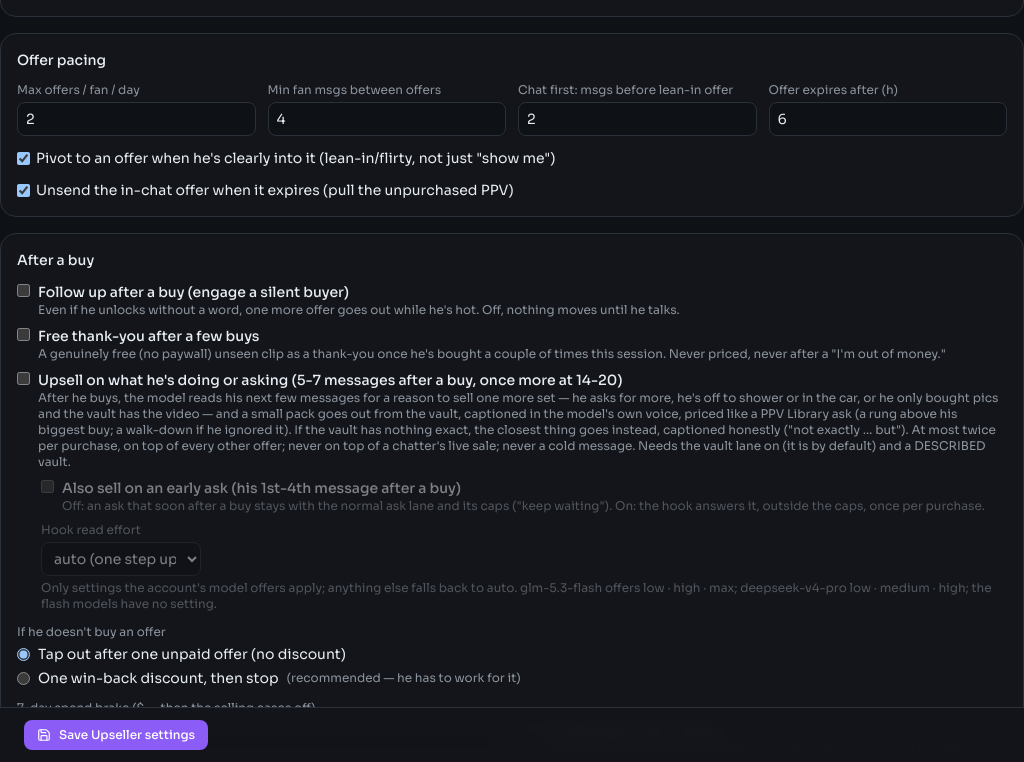
Test: the hook upsell card › the inner block is disabled while the hook is off, and live once it is on
The width and height of the screenshot is (1024, 762).
(page scrolled)
Expected: the checkbox labelled "Also sell on an early ask" is disabled, [41, 480, 54, 493]
Expected: the dropdown labelled "Hook read effort" is disabled, [41, 542, 201, 576]
What coordinates should you click on to do the following:
click the checkbox named "Upsell on what he.s doing or asking"
I would click on:
 (24, 379)
Its box is [17, 372, 30, 385].
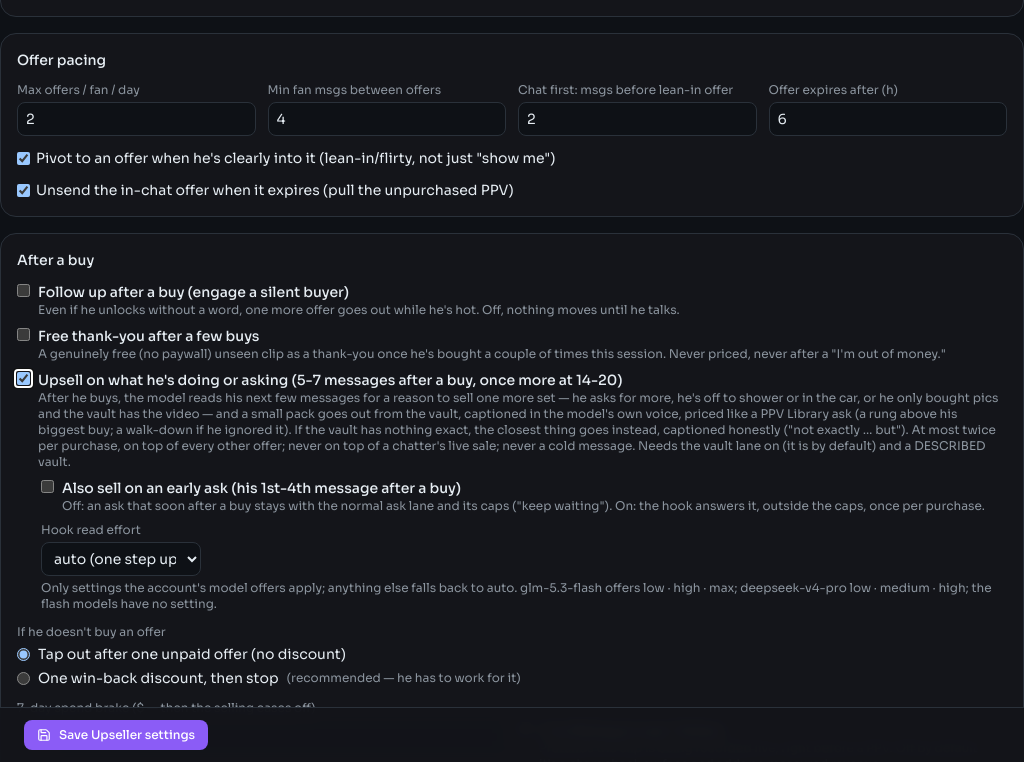
Expected: the checkbox labelled "Also sell on an early ask" is enabled, [41, 480, 54, 493]
Expected: the dropdown labelled "Hook read effort" is enabled, [41, 542, 201, 576]
